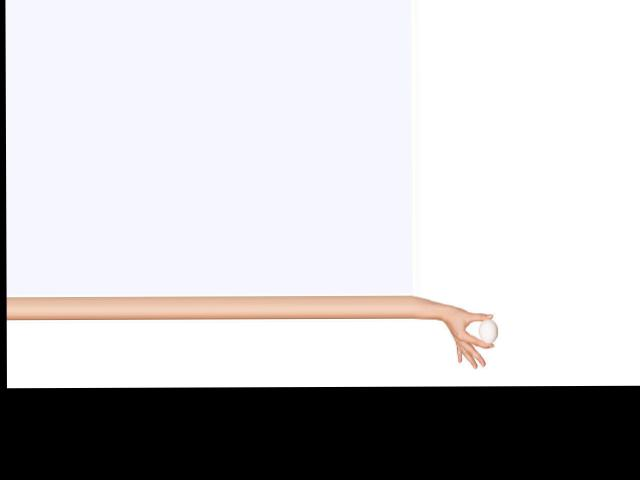egg: (479, 318, 498, 343)
